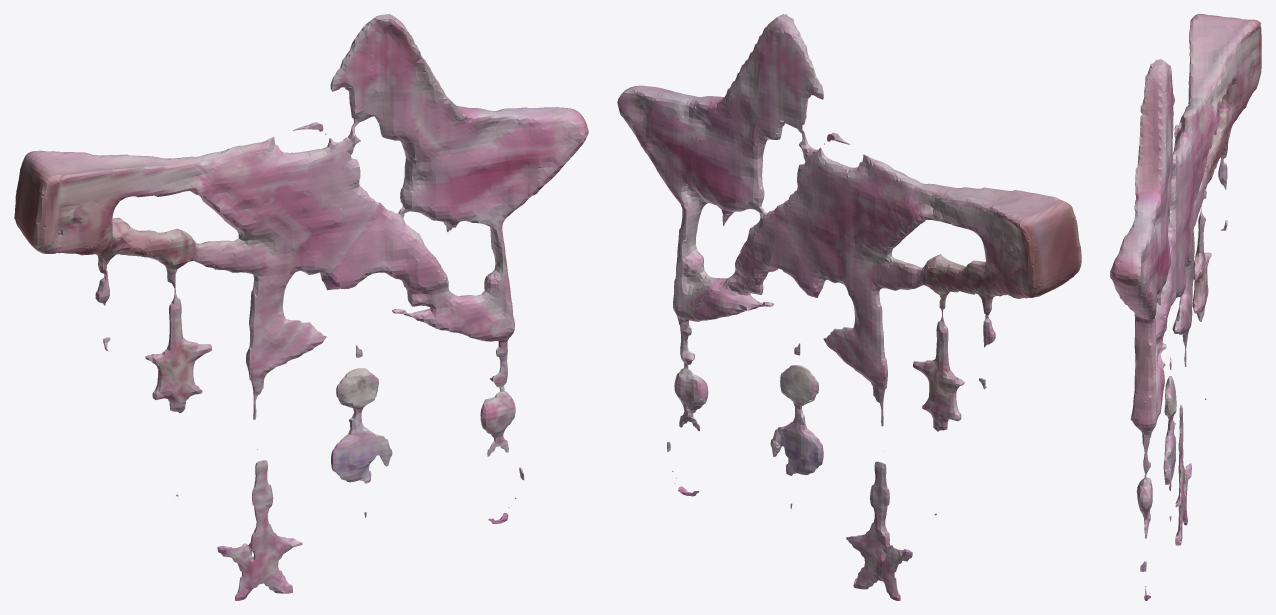
Rendered from tmpm6sqqct8.glb.
The picture shows the model from 3 angles, left to right: view 1: azimuth 30°, elevation 25°; view 2: azimuth 150°, elevation 25°; view 3: azimuth 270°, elevation 25°; orthographic projection. The views are drawn at different scales.
Visible parts, largest first — view 1: world; view 2: world; view 3: world.
Boxes of the visible parts, left/top/right/bottom form: world: left=14, top=14, right=588, bottom=600; world: left=617, top=14, right=1081, bottom=600; world: left=1110, top=14, right=1261, bottom=600.
Bounding box in the file's own units: 1.79 × 1.88 × 0.4946.
